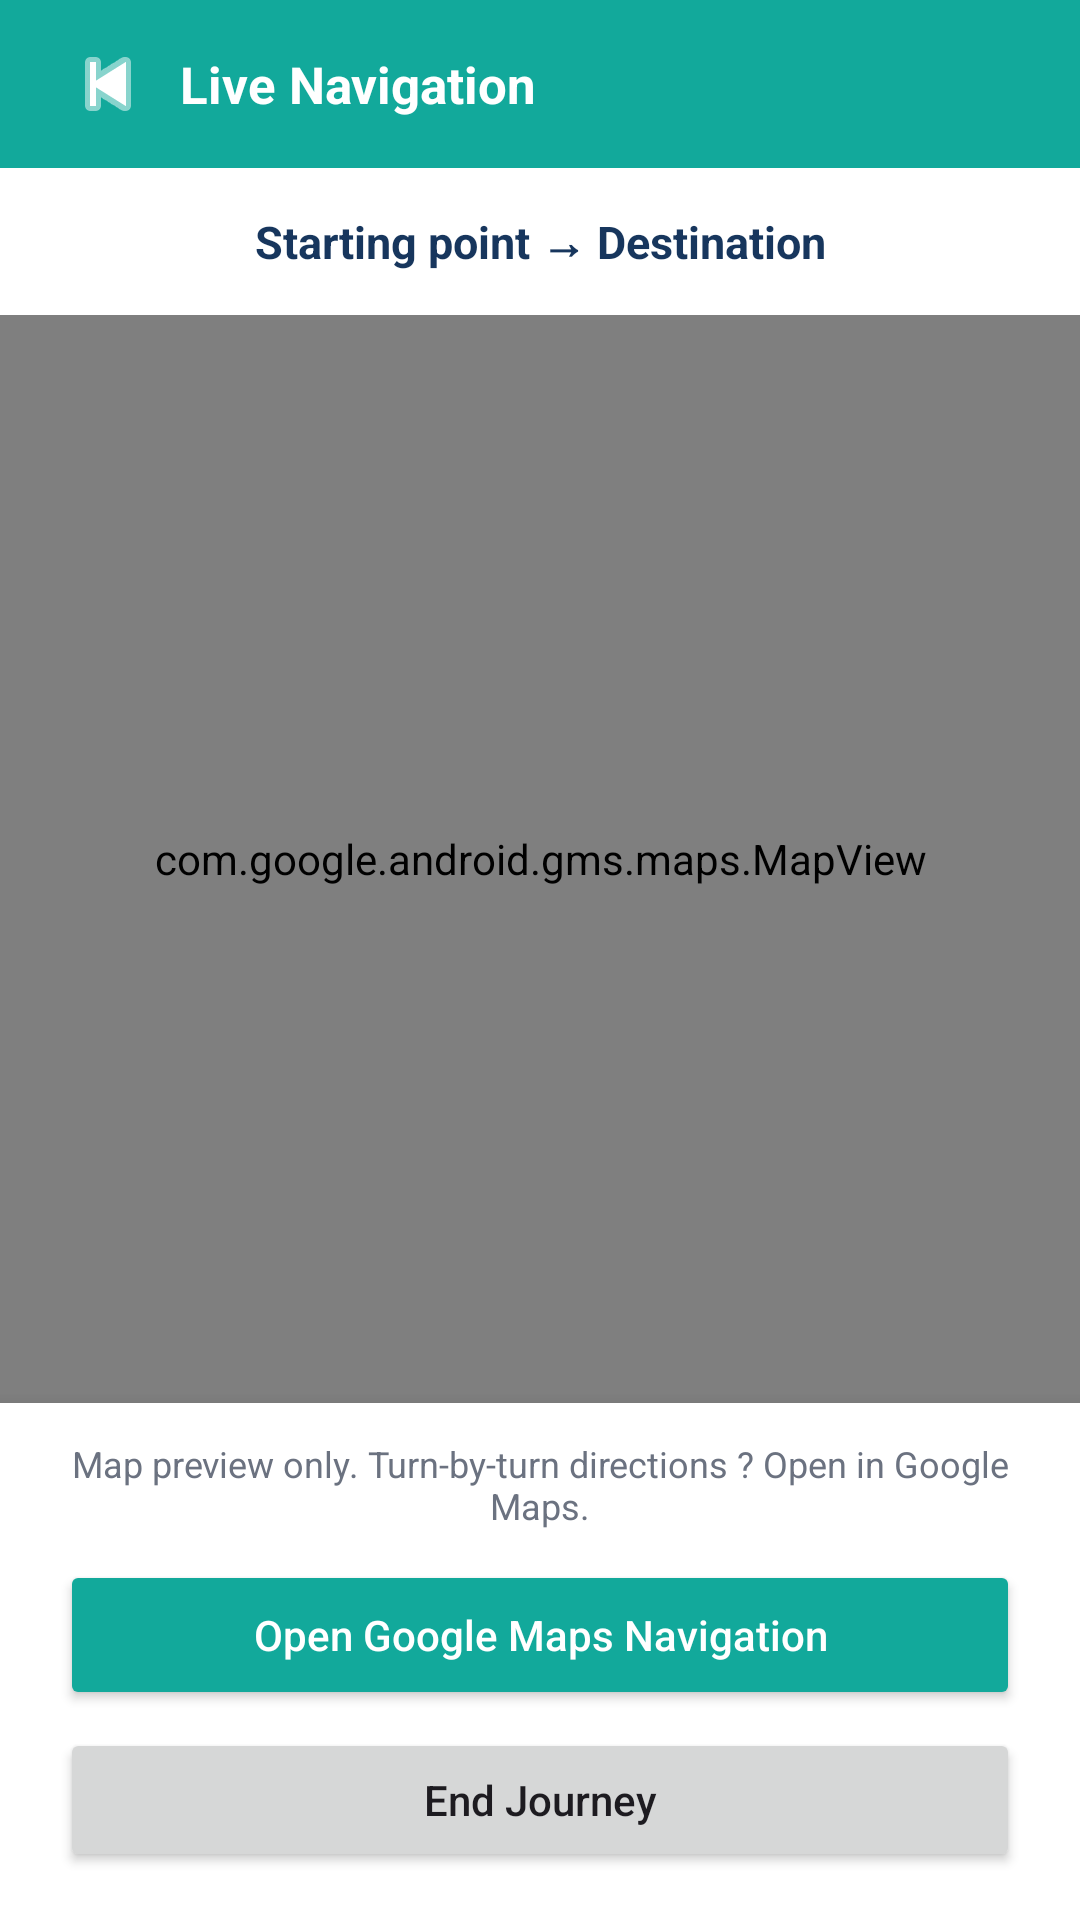

Screen size 1080w x 1920h. Icon name, then its box in pixels as bbox=(x1, y1, x2, y2):
Back to Route Conditions: bbox=(85, 57, 131, 111)
